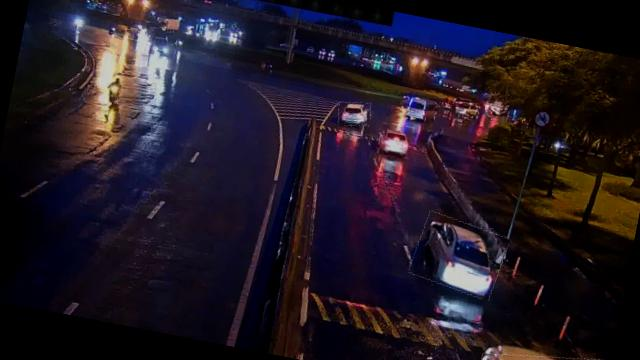Bike: (106, 75, 125, 104)
Car: (409, 212, 510, 298), (475, 341, 609, 360), (377, 121, 415, 159), (336, 98, 373, 129)
